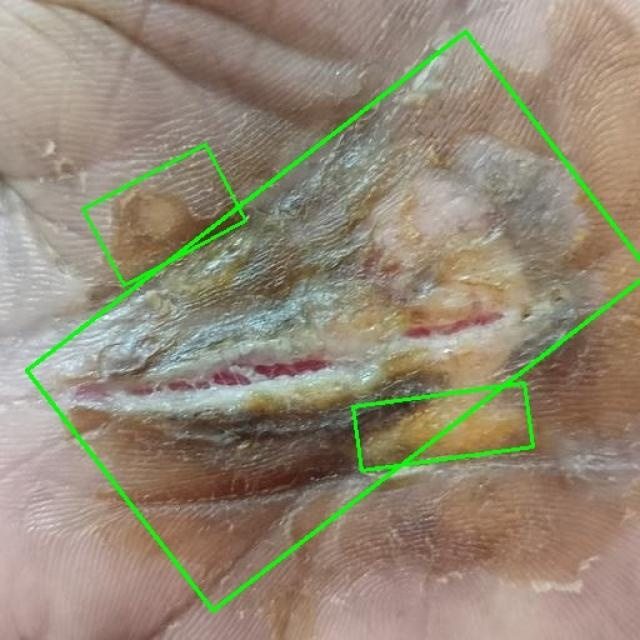Eczema: (27, 32, 640, 611), (83, 145, 246, 286), (353, 383, 533, 470)
